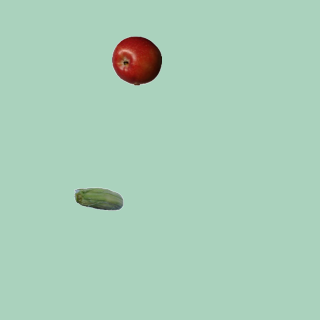Apple Braeburn: (111, 35, 161, 85)
Corn Husk: (73, 175, 123, 225)
